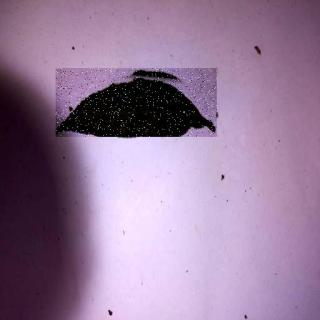Anthracnose: (57, 70, 219, 139)
